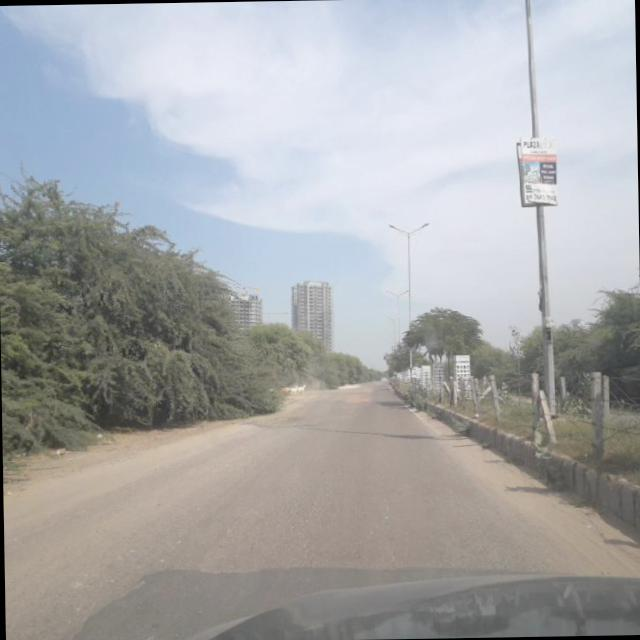crack: (163, 433, 527, 576)
